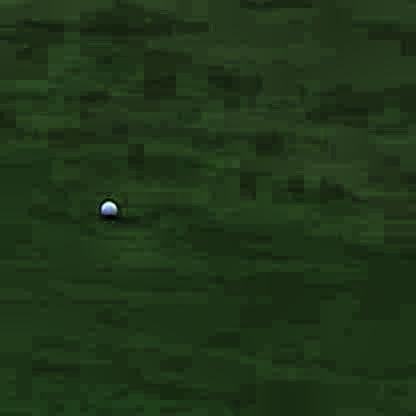golfball: (96, 194, 115, 216)
